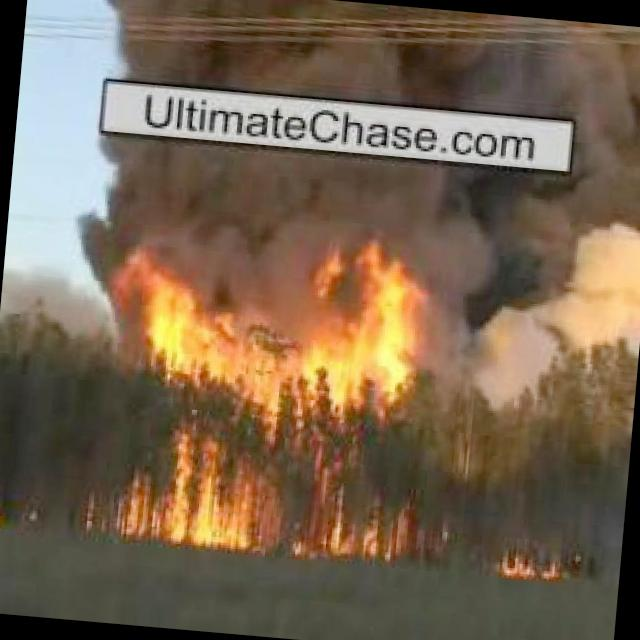fire: (95, 223, 428, 562), (490, 551, 568, 585), (0, 503, 7, 528)
